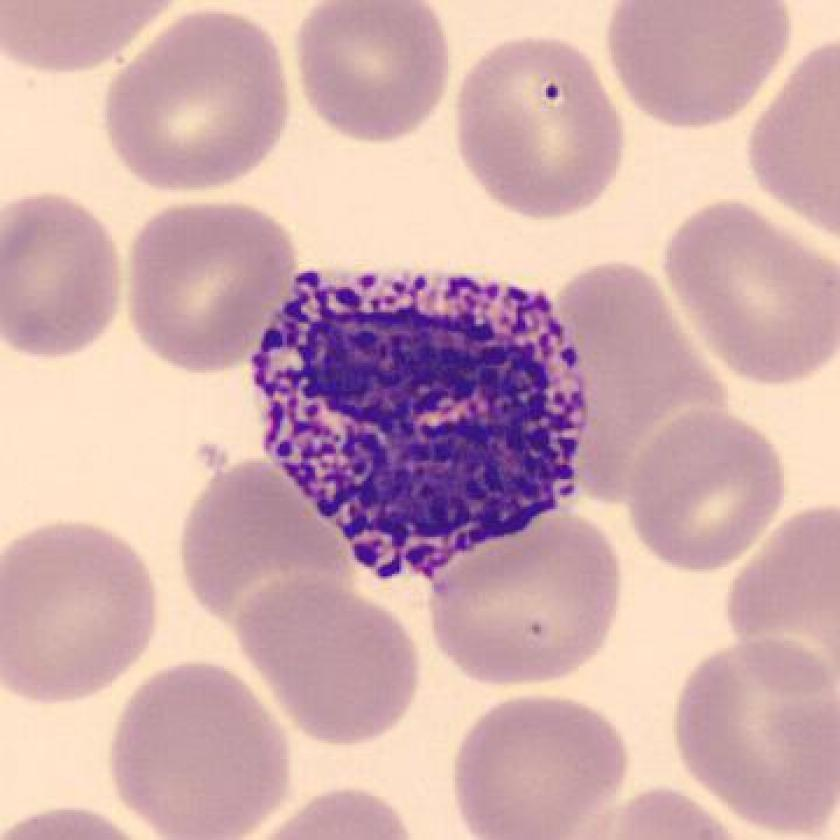basophil: (253, 265, 598, 582)
